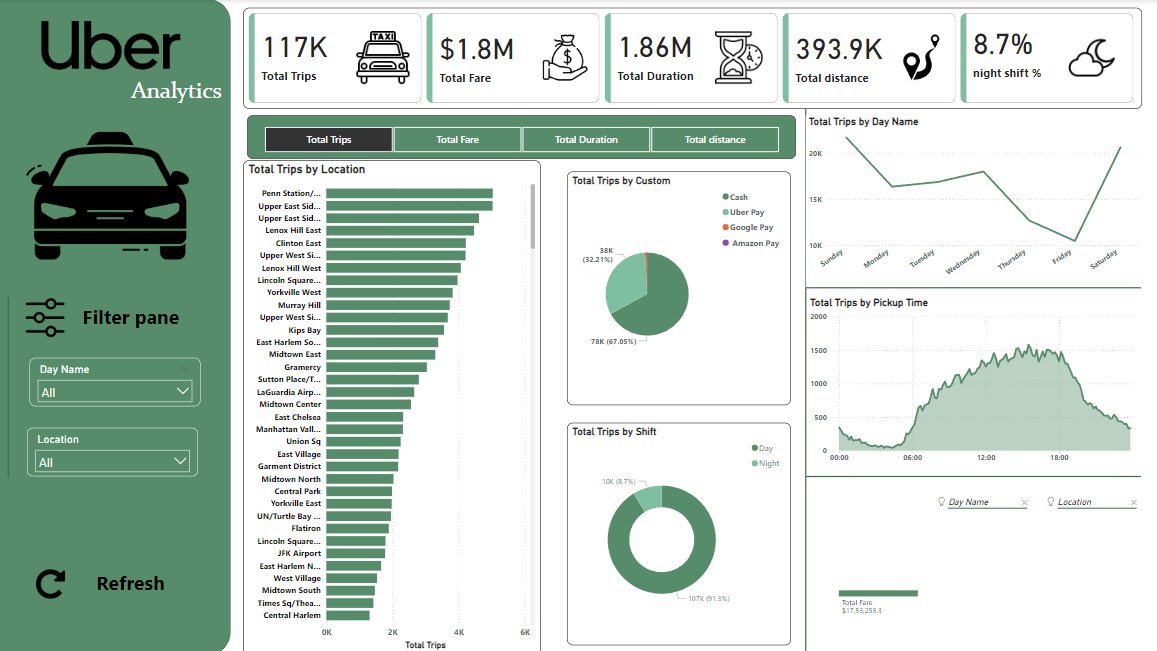

Layout of this report page (visuals, bound fields, positions):
{"tool":"powerbi","page":{"name":"Page 1","canvas":[1920,1080],"ordinal":0},"visuals":[{"type":"shape","box":[0,0,384.9,1080.6],"z":0},{"type":"image","box":[28.8,0,319,152.3],"z":1000},{"type":"textbox","box":[216.1,123.5,168.8,57.6],"z":2000},{"type":"image","box":[28.8,487.8,100.9,74.1],"z":3000},{"type":"textbox","box":[135.8,496.1,191.4,57.6],"z":4000},{"type":"slicer","fields":{"Values":["DateTable.Day Name"]},"box":[53.5,590.7,282,80.3],"z":5000},{"type":"slicer","fields":{"Values":["Location Table.Location"]},"box":[49.4,706,282,80.3],"z":6000},{"type":"cardVisual","fields":{"Data":["DateTable.Total Trips","DateTable.Total Fare","DateTable.Total Duration","DateTable.Total distance","DateTable.night shift %"]},"box":[405.5,14.4,1479.9,166.7],"z":7000},{"type":"clusteredBarChart","fields":{"Y":["DateTable.Total Trips"],"Category":["Location Table.Location"]},"box":[405.5,265.5,489.9,815.1],"z":8000},{"type":"slicer","fields":{"Values":["Toggle.Toggle"]},"box":[411.7,191.4,903.6,72],"z":9000},{"type":"pieChart","fields":{"Y":["DateTable.Total Trips"],"Category":["Trip Details.Custom"]},"box":[938.6,284,368.4,384.9],"z":10000},{"type":"donutChart","fields":{"Y":["DateTable.Total Trips"],"Category":["Trip Details.Shift"]},"box":[938.6,697.8,368.4,366.4],"z":11000},{"type":"shape","box":[1307,181.1,49.4,899.5],"z":12000},{"type":"lineChart","fields":{"Y":["DateTable.Total Trips"],"Category":["DateTable.Day Name"]},"box":[1331.7,191.4,553.7,284],"z":13000},{"type":"areaChart","title":"Total Trips by Pickup Time ","fields":{"Y":["DateTable.Total Trips"],"Category":["Trip Details.Pickup Time (bins)"]},"box":[1333.8,489.9,553.7,284],"z":14000},{"type":"decompositionTreeVisual","fields":{"Analyze":["DateTable.Total Fare"],"ExplainBy":["DateTable.Day Name","Location Table.Location"]},"box":[1356.4,802.7,551.6,261.4],"z":15000},{"type":"shape","box":[1331.7,463.1,551.6,24.7],"z":16000},{"type":"shape","box":[1331.7,773.9,551.6,24.7],"z":17000},{"type":"image","box":[32.9,185.2,298.5,277.9],"z":18000},{"type":"image","box":[32.9,934.5,111.1,57.6],"z":19000},{"type":"textbox","box":[158.5,934.5,146.1,57.6],"z":20000},{"type":"shape","box":[0,489.9,37,298.5],"z":21000}]}

Visuals, with their boxes in screenshot pixels (x1, y1, x2, y2), scaled from the page's 1920x1080 canvas onto the 1157x651 screenshot:
shape: (x1=0, y1=0, x2=232, y2=650)
image: (x1=17, y1=0, x2=210, y2=92)
textbox: (x1=130, y1=74, x2=232, y2=109)
image: (x1=17, y1=294, x2=78, y2=339)
textbox: (x1=82, y1=299, x2=197, y2=334)
slicer - DateTable.Day Name: (x1=32, y1=356, x2=202, y2=404)
slicer - Location Table.Location: (x1=30, y1=426, x2=200, y2=474)
cardVisual - DateTable.Total Trips x DateTable.Total Fare: (x1=244, y1=9, x2=1136, y2=109)
clusteredBarChart - DateTable.Total Trips x Location Table.Location: (x1=244, y1=160, x2=540, y2=650)
slicer - Toggle.Toggle: (x1=248, y1=115, x2=793, y2=159)
pieChart - DateTable.Total Trips x Trip Details.Custom: (x1=566, y1=171, x2=788, y2=403)
donutChart - DateTable.Total Trips x Trip Details.Shift: (x1=566, y1=421, x2=788, y2=641)
shape: (x1=788, y1=109, x2=817, y2=650)
lineChart - DateTable.Total Trips x DateTable.Day Name: (x1=802, y1=115, x2=1136, y2=287)
"Total Trips by Pickup Time " areaChart: (x1=804, y1=295, x2=1137, y2=466)
decompositionTreeVisual - DateTable.Total Fare x DateTable.Day Name: (x1=817, y1=484, x2=1150, y2=641)
shape: (x1=802, y1=279, x2=1135, y2=294)
shape: (x1=802, y1=466, x2=1135, y2=481)
image: (x1=20, y1=112, x2=200, y2=279)
image: (x1=20, y1=563, x2=87, y2=598)
textbox: (x1=96, y1=563, x2=184, y2=598)
shape: (x1=0, y1=295, x2=22, y2=475)
